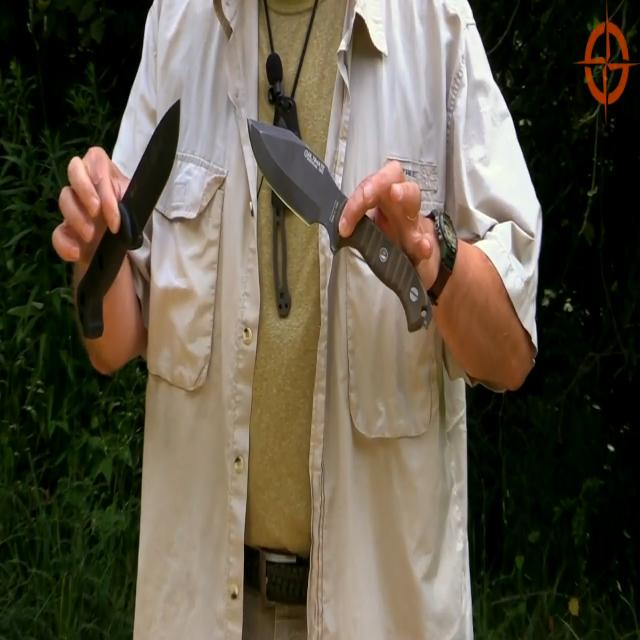knife: (243, 112, 433, 340), (72, 98, 189, 342)
